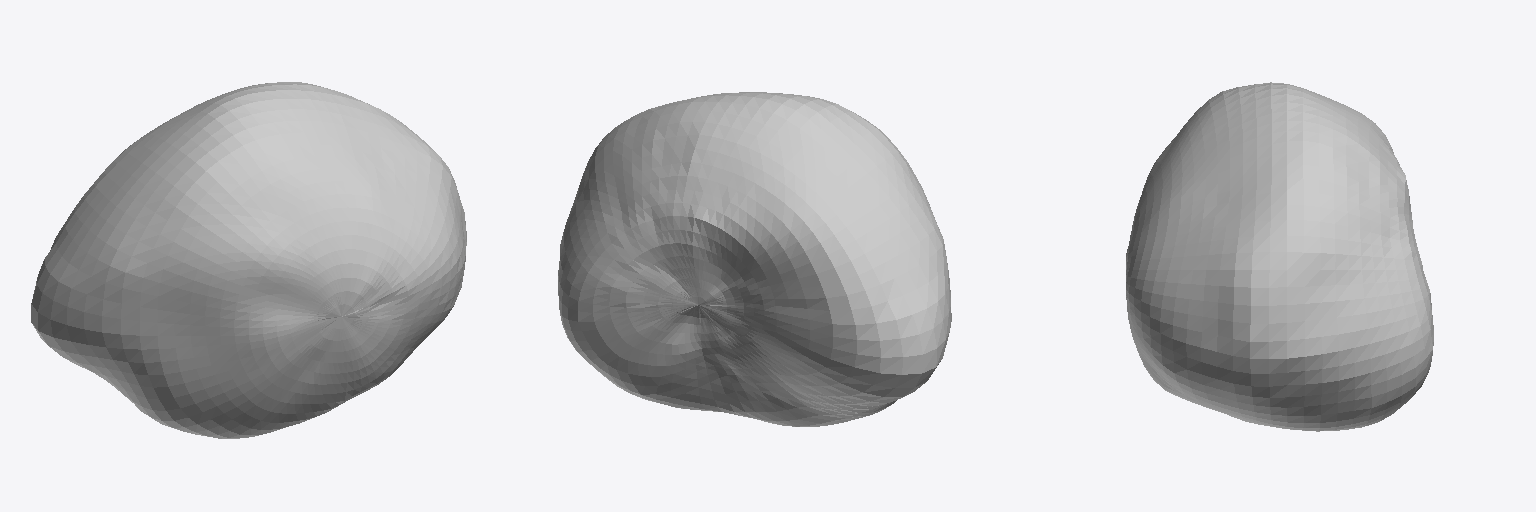
Rendered from deimos-scaled-00002.obj.
The picture shows the model from 3 angles: view 1: azimuth 30°, elevation 25°; view 2: azimuth 150°, elevation 25°; view 3: azimuth 270°, elevation 25°; orthographic projection.
Size of the model in its own units: 0.0003 by 0.0003 by 0.0002.